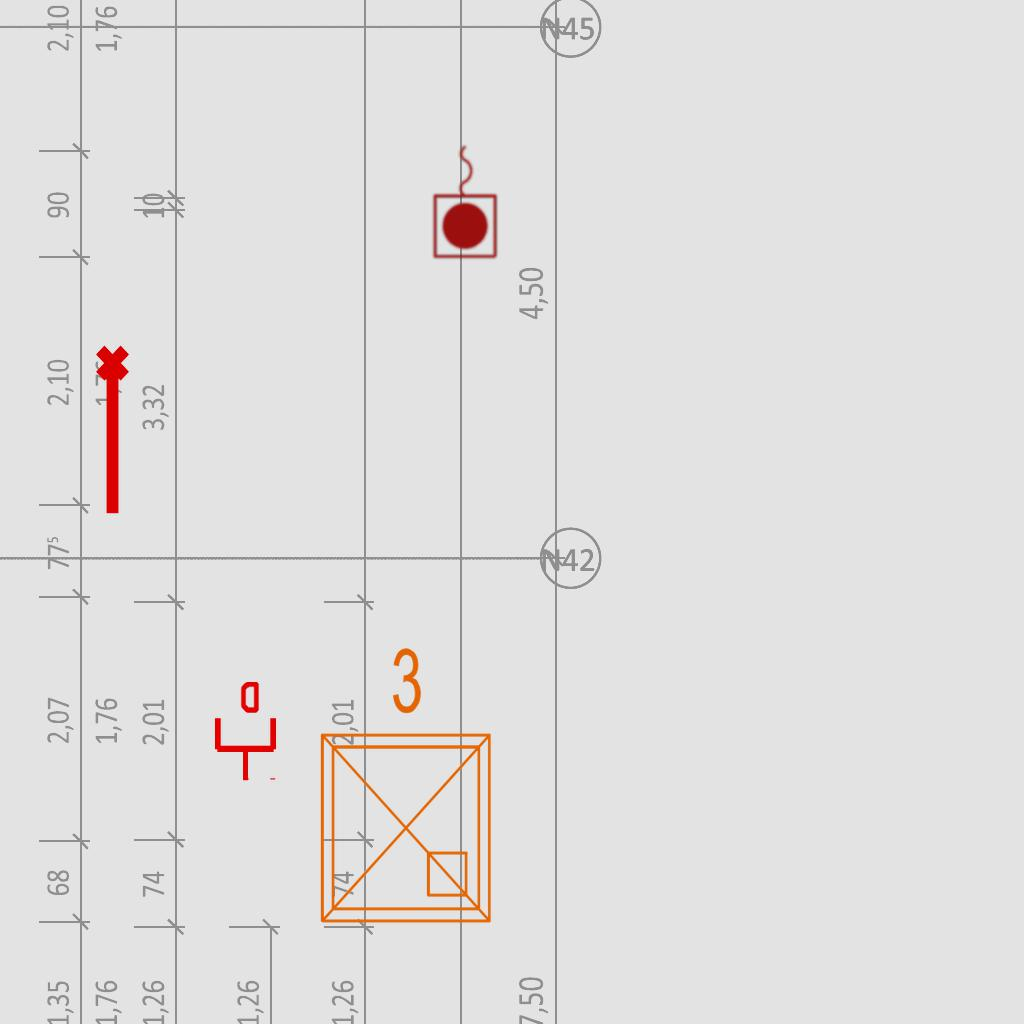ASR_Ansaugoeffnung: (92, 343, 138, 519)
Datenanschluss_einfach: (211, 682, 280, 782)
Einbaudownlights_LED_Konferenzraeume: (298, 637, 506, 937)
Zugtaster: (430, 140, 502, 262)
